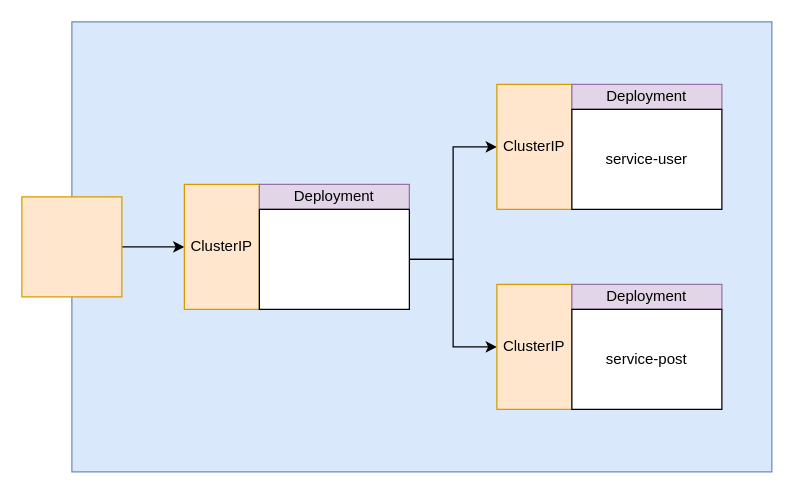
Some shapes in this 794 by 494 pixel diagram are drawn without their labels. The centre of each missing label's shape, as x and y in pixels:
Ingress: pixel 71 246
service-gql: pixel 333 258
